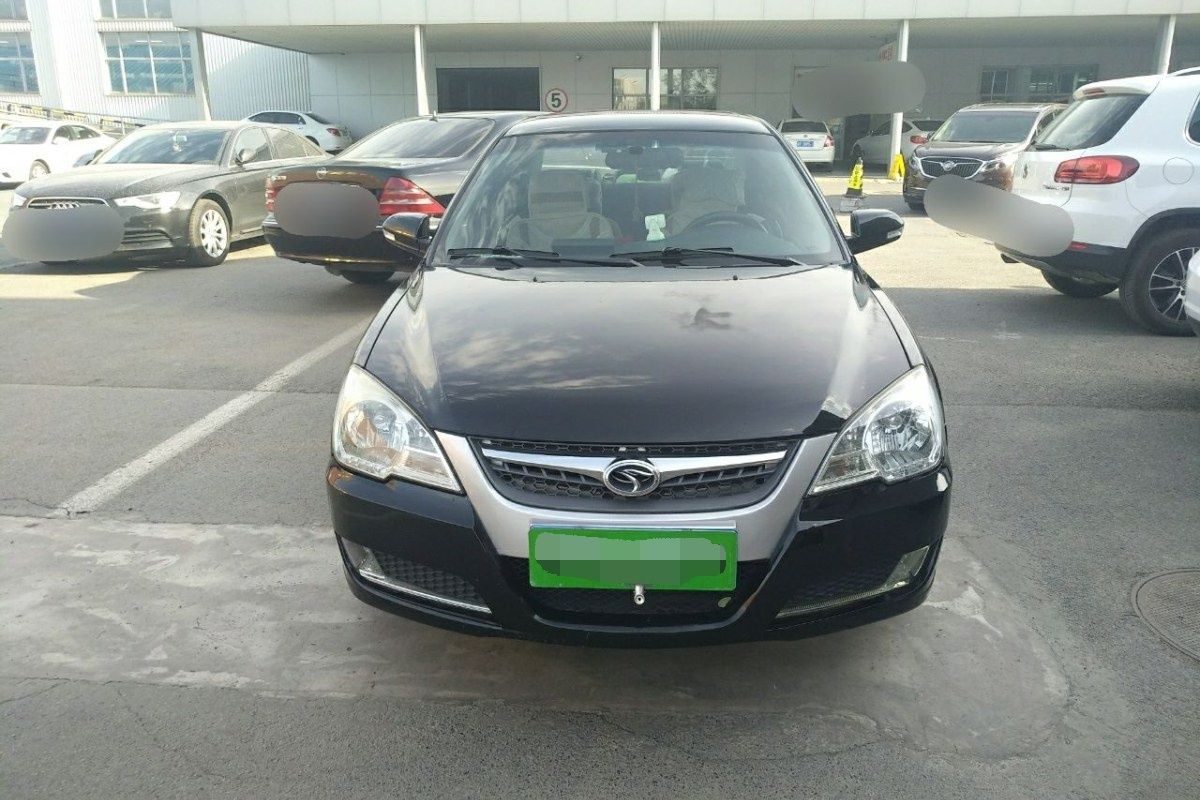family sedan: (313, 106, 970, 657)
